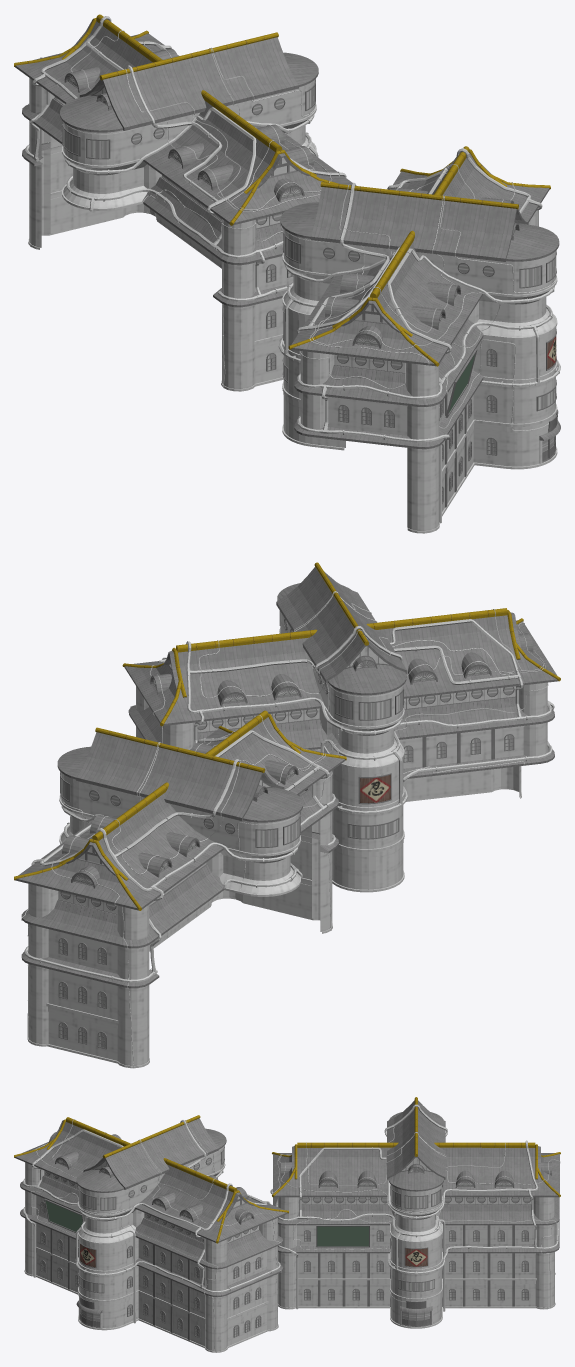
Rendered from MERGED_SM_ENV_KNVLLG_CommonBuilding_K_1.mo.fbx.
3 views of the same model, one above another, from view 1: azimuth 30°, elevation 25°; view 2: azimuth 150°, elevation 25°; view 3: azimuth 270°, elevation 25° (orthographic). The views are drawn at different scales.
Parts seen in each view (by area): view 1: MERGED_SM_ENV_KNVLLG_CommonBuilding_K_1.mo; view 2: MERGED_SM_ENV_KNVLLG_CommonBuilding_K_1.mo; view 3: MERGED_SM_ENV_KNVLLG_CommonBuilding_K_1.mo.
Part boxes in pixels (box(x1,y1,x2,y2)): MERGED_SM_ENV_KNVLLG_CommonBuilding_K_1.mo: box(14, 14, 560, 533); MERGED_SM_ENV_KNVLLG_CommonBuilding_K_1.mo: box(14, 562, 560, 1068); MERGED_SM_ENV_KNVLLG_CommonBuilding_K_1.mo: box(14, 1097, 560, 1352).
Bounding box in the file's own units: 53.71 × 35.6 × 107.
